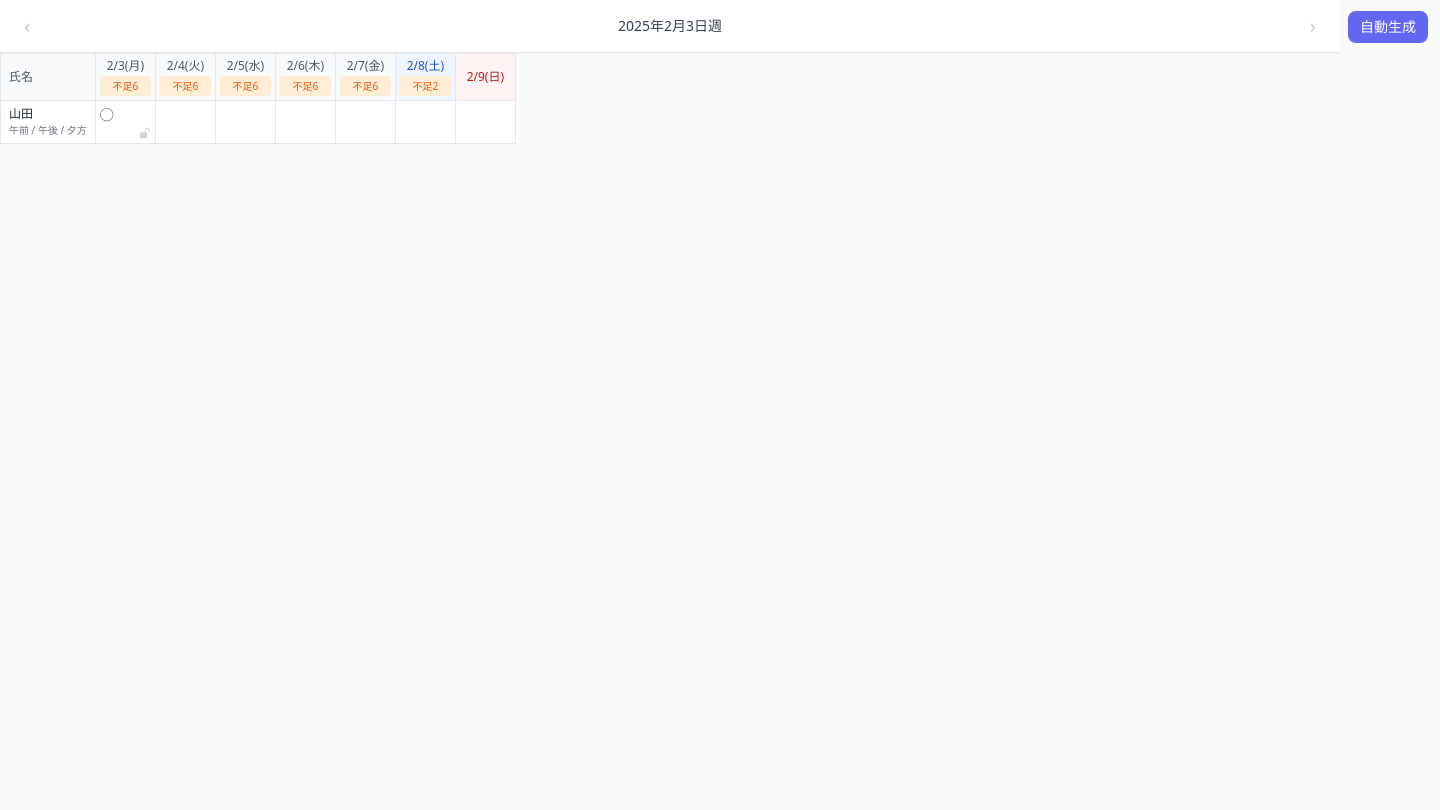
Scenario: ShiftPage › 上書き確認ダイアログ › ダイアログでキャンセルするとアサインが変わらない
Click the button "自動生成".
click(1388, 26)  # box [1348, 10, 1428, 42]
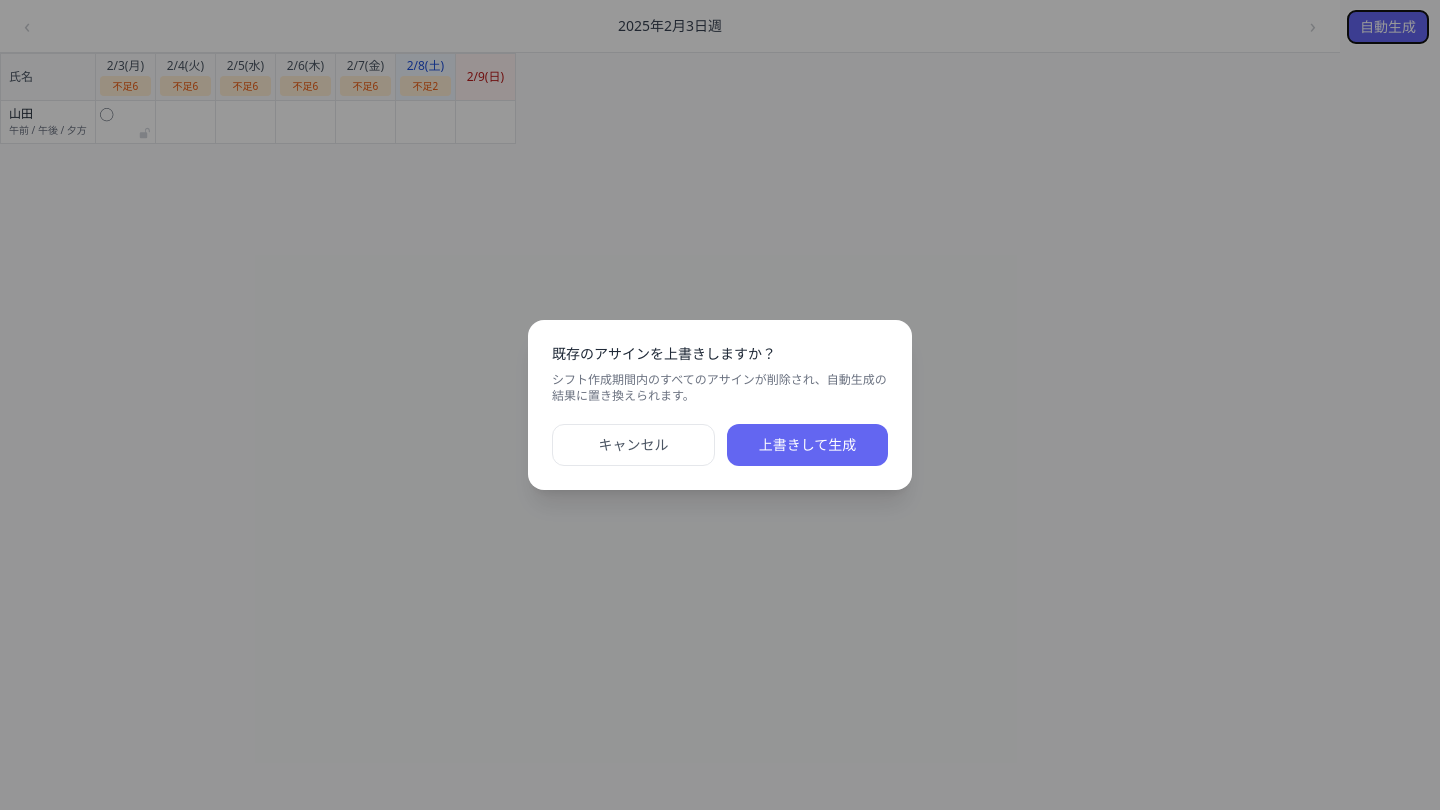
Click the button "キャンセル".
click(634, 445)  # box [552, 424, 715, 466]
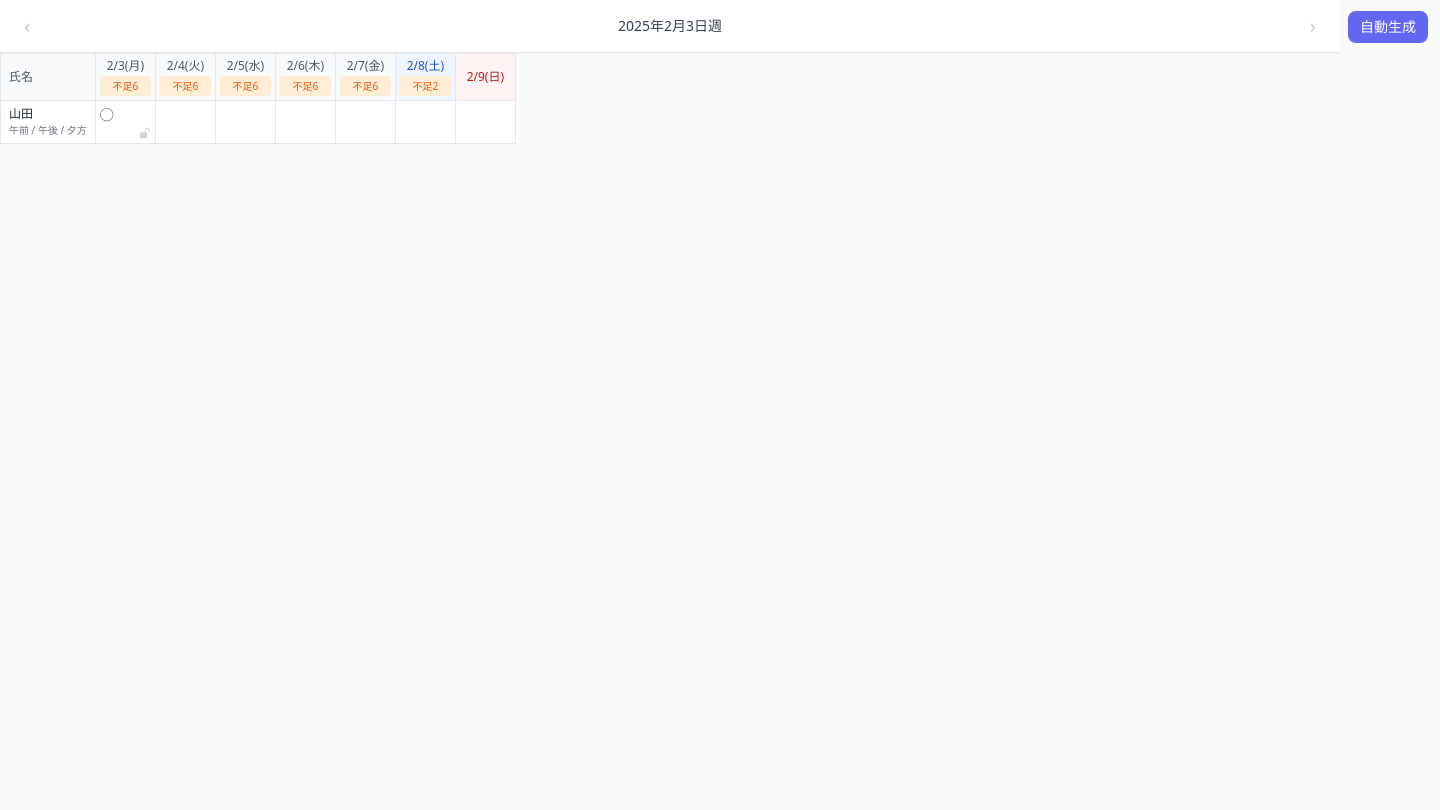
Check: the dialog is gone
